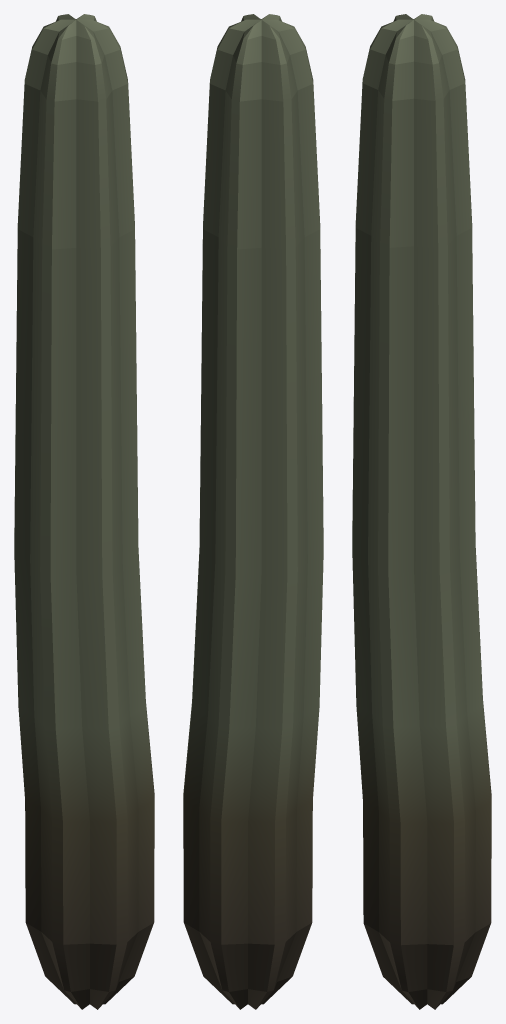
The model's file is plants-cacti-succulents-pole-cactus_v3.fbx.
The picture shows the model from 3 angles, left to right: view 1: azimuth 30°, elevation 25°; view 2: azimuth 150°, elevation 25°; view 3: azimuth 330°, elevation 25°; orthographic projection.
Parts seen in each view (by area): view 1: Pole Cactus_v3; view 2: Pole Cactus_v3; view 3: Pole Cactus_v3.
Part boxes in pixels (x1=…): Pole Cactus_v3: x1=14, y1=14, x2=154, y2=1009; Pole Cactus_v3: x1=183, y1=14, x2=323, y2=1009; Pole Cactus_v3: x1=352, y1=14, x2=491, y2=1009.
Bounding box in the file's own units: 0.1812 × 1.5 × 0.1783.
